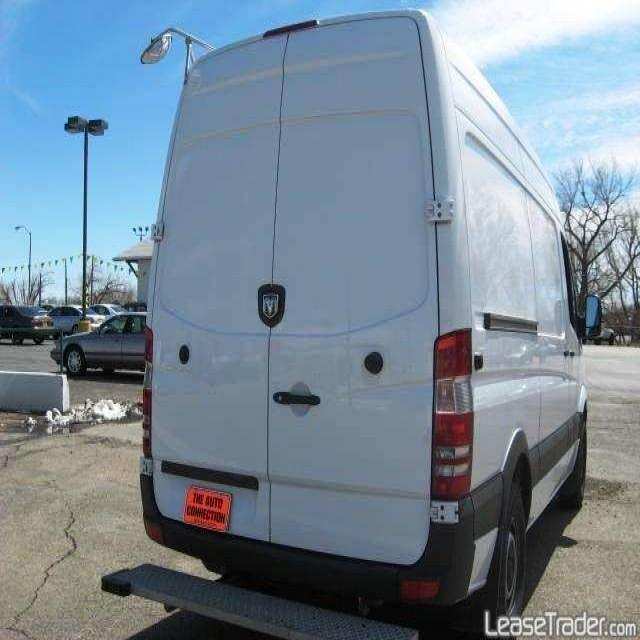car: (100, 10, 601, 639)
